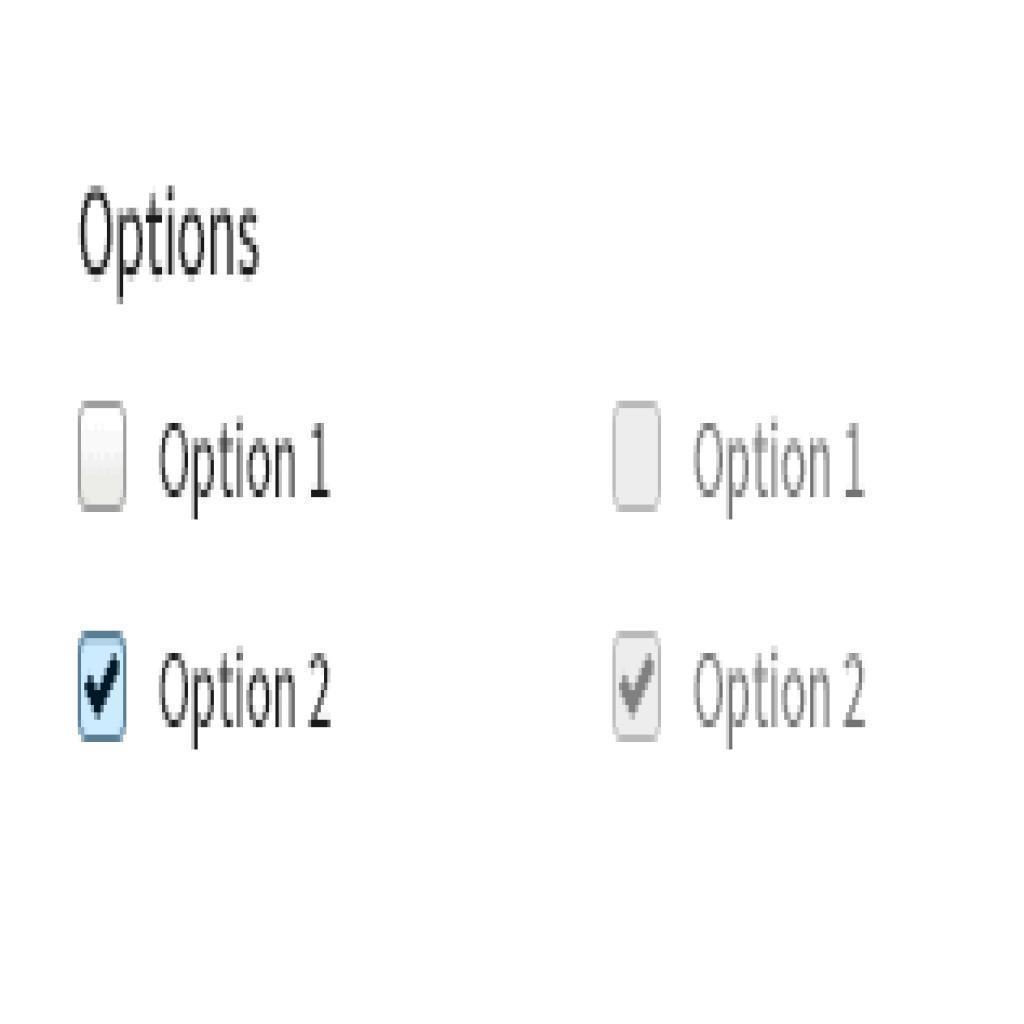checkbox: (77, 627, 133, 746), (76, 403, 133, 513), (611, 630, 664, 741), (613, 402, 663, 509)
